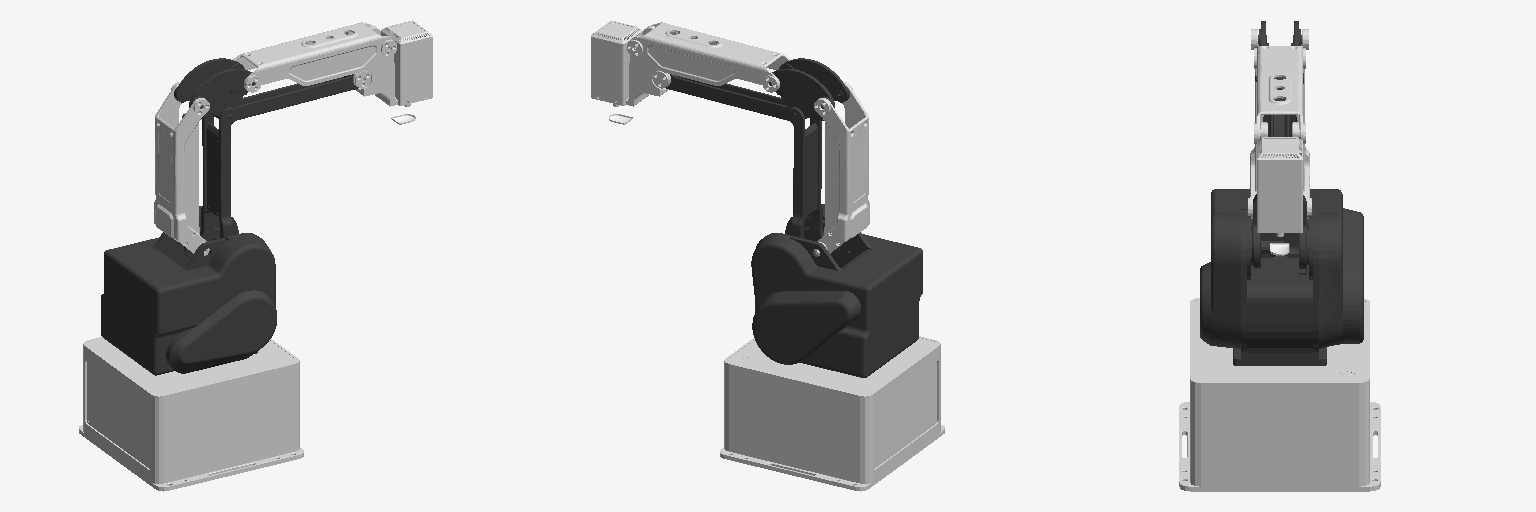
The robot description file, URDF, robot "mg400":
<?xml version="1.0" encoding="utf-8"?>
<!-- This URDF was automatically created by SolidWorks to URDF Exporter! Originally created by [author] ([email redacted]) 
     Commit Version: 1.6.0-1-g15f4949  Build Version: 1.6.7594.29634
     For more information, please see http://wiki.ros.org/sw_urdf_exporter -->
<robot name="mg400">
  <!-- Colors -->
  <material name="DarkGrey">
    <color rgba="0.3 0.3 0.3 1.0"/>
  </material>
  <material name="Grey">
    <color rgba="0.4 0.4 0.4 1.0"/>
  </material>
  <material name="Orange">
    <color rgba="1.0 0.423529411765 0.0392156862745 1.0"/>
  </material>
  <material name="Blue">
    <color rgba="0 0.1 1.0 1.0"/>
  </material>
  <material name="LightGrey">
    <color rgba="0.9 0.9 0.9 1.0"/>
  </material>
  <material name="Red">
    <color rgba="0.9 0 0.2 1.0"/>
  </material>
  <material name="TransparentRed">
    <color rgba="0.9 0 0.2 0.5"/>
  </material>
  <material name="Green">
    <color rgba="0 0.9 0.5 1.0"/>
  </material>
  <material name="Yellow">
    <color rgba="0.7 0.7 0 1.0"/>
  </material>
  <material name="LightBlue">
    <color rgba="0. 0.3 1.0 1.0"/>
  </material>
  <material name="Black">
    <color rgba="0.05 0.05 0.05 1.0"/>
  </material>
  <material name="White">
    <color rgba="1.0 1.0 1.0 1.0" />
  </material>

  
    <link name="base_link">
        <inertial>
            <origin xyz="0.000600637001378879 -2.53487071137343E-07 0.0560927888040551" rpy="0 0 0"/>
            <mass value="3.62164811695094"/>
            <inertia
                    ixx="0.0126582175296405"
                    ixy="6.66832041405407E-08"
                    ixz="-3.52548281362717E-06"
                    iyy="0.0145891535260188"
                    iyz="5.15901657460475E-08"
                    izz="0.0195045116656827"/>
        </inertial>
        <visual>
            <origin xyz="0 0 0" rpy="0 0 0"/>
            <geometry>
                <mesh filename="package://mg400/meshes/base_link.STL"/>
            </geometry>
            <material name="LightGrey"/>

        </visual>
        <collision>
            <origin xyz="0 0 0" rpy="0 0 0"/>
            <geometry>
                <mesh filename="package://mg400/meshes/base_link.STL"/>
            </geometry>
        </collision>
    </link>

    <link name="link1">
        <inertial>
            <origin xyz="-0.0046209286967387 -6.88107982318643E-05 0.0709919358465827" rpy="0 0 0"/>
            <mass value="1.77056222753813"/>
            <inertia
                    ixx="0.00605885293080088"
                    ixy="0.000156081820035162"
                    ixz="-0.00021785654850453"
                    iyy="0.00579381982249127"
                    iyz="6.20876898015621E-05"
                    izz="0.00741058257251941"/>
        </inertial>
        <visual>
            <origin xyz="0 0 0" rpy="0 0 0"/>
            <geometry>
                <mesh filename="package://mg400/meshes/link1.STL"/>
            </geometry>
            <material name="DarkGrey"/>
        </visual>
        <collision>
            <origin xyz="0 0 0" rpy="0 0 0"/>
            <geometry>
                <mesh filename="package://mg400/meshes/link1.STL"/>
            </geometry>
        </collision>
    </link>

    <joint name="j1" type="revolute">
        <origin xyz="-0.00500000000000002 0 0.109" rpy="0 0 0"/>
        <parent link="base_link"/>
        <child link="link1"/>
        <axis xyz="0 0 1"/>
        <limit lower="-3.14" upper="3.14" effort="0" velocity="0"/>
    </joint>

    <link name="link2_1">
        <inertial>
            <origin xyz="-0.00321788524756698 0.0352926570826593 0.0596131328734945" rpy="0 0 0"/>
            <mass value="0.0866115884541459"/>
            <inertia
                    ixx="0.000338551627157209"
                    ixy="-2.78858228577314E-09"
                    ixz="1.05212346076681E-05"
                    iyy="0.000307789653713489"
                    iyz="-1.36109590152488E-06"
                    izz="3.89949940178023E-05"/>
        </inertial>
        <visual>
            <origin xyz="0 0 0" rpy="0 0 0"/>
            <geometry>
                <mesh filename="package://mg400/meshes/link2_1.STL"/>
            </geometry>
            <material name="DarkGrey"/>
        </visual>
        <collision>
            <origin xyz="0 0 0" rpy="0 0 0"/>
            <geometry>
                <mesh filename="package://mg400/meshes/link2_1.STL"/>
            </geometry>
        </collision>
    </link>

    <joint name="j2_1" type="revolute">
        <origin xyz="0.0435007595118091 -0.0357748756218899 0.118995682641123" rpy="0 0 0"/>
        <parent link="link1"/>
        <child link="link2_1"/>
        <axis xyz="0 1 0"/>
        <limit lower="-3.14" upper="3.14" effort="0" velocity="0"/>
    </joint>

    <link name="link3_1">
        <inertial>
            <origin xyz="0.0821679417596488 0.000113044685842874 -0.00333758753063973" rpy="0 0 0"/>
            <mass value="0.0375214831045061"/>
            <inertia
                    ixx="2.54761091812684E-06"
                    ixy="3.73102654491378E-07"
                    ixz="-2.02625705871199E-06"
                    iyy="0.000164234314177935"
                    iyz="-1.44731096825347E-08"
                    izz="0.000164331500854172"/>
        </inertial>
        <visual>
            <origin xyz="0 0 0" rpy="0 0 0"/>
            <geometry>
                <mesh filename="package://mg400/meshes/link3_1.STL"/>
            </geometry>
            <material name="DarkGrey"/>
        </visual>
        <collision>
            <origin xyz="0 0 0" rpy="0 0 0"/>
            <geometry>
                <mesh filename="package://mg400/meshes/link3_1.STL"/>
            </geometry>
        </collision>
    </link>

    <joint name="j3_1" type="revolute">
        <origin xyz="-0.0010512570171516 0.0357748756218898 0.175001164344716" rpy="0 0 0"/>
        <parent link="link2_1"/>
        <child link="link3_1"/>
        <axis xyz="0 1 0"/>
        <limit lower="-3.14" upper="3.14" effort="0" velocity="0"/>
    </joint>

    <link name="link4_1">
        <inertial>
            <origin xyz="0.0387878182928232 0.0170848333998282 -0.0024610990490942" rpy="0 0 0"/>
            <mass value="0.0628979533925801"/>
            <inertia
                    ixx="4.78483605712844E-05"
                    ixy="1.42081909356751E-07"
                    ixz="8.32917079044309E-06"
                    iyy="5.42362047732042E-05"
                    iyz="-2.90608446019989E-08"
                    izz="3.36120409842199E-05"/>
        </inertial>
        <visual>
            <origin xyz="0 0 0" rpy="0 0 0"/>
            <geometry>
                <mesh filename="package://mg400/meshes/link4_1.STL"/>
            </geometry>
            <material name="LightGrey"/>
        </visual>
        <collision>
            <origin xyz="0 0 0" rpy="0 0 0"/>
            <geometry>
                <mesh filename="package://mg400/meshes/link4_1.STL"/>
            </geometry>
        </collision>
    </link>

    <joint name="j4_1" type="revolute">
        <origin xyz="0.174969784055705 -0.0170000000000335 0.00325187137614585" rpy="0 0 0"/>
        <parent link="link3_1"/>
        <child link="link4_1"/>
        <axis xyz="0 1 0"/>
        <limit lower="-3.14" upper="3.14" effort="0" velocity="0"/>
    </joint>

    <link name="link5">
        <inertial>
            <origin xyz="4.24246458685662E-07 3.08507851181768E-14 -0.0349688816440933" rpy="0 0 0"/>
            <mass value="0.0965276919819365"/>
            <inertia
                    ixx="4.98589992160928E-05"
                    ixy="-1.534865545378E-12"
                    ixz="3.46424449605658E-10"
                    iyy="4.98589881725446E-05"
                    iyz="-5.64890953414983E-17"
                    izz="2.130463008359E-05"/>
        </inertial>
        <visual>
            <origin xyz="0 0 0" rpy="0 0 0"/>
            <geometry>
                <mesh filename="package://mg400/meshes/link5.STL"/>
            </geometry>
            <material name="LightGrey"/>
        </visual>
        <collision>
            <origin xyz="0 0 0" rpy="0 0 0"/>
            <geometry>
                <mesh filename="package://mg400/meshes/link5.STL"/>
            </geometry>
        </collision>
    </link>

    <joint name="j5" type="revolute">
        <origin xyz="0.0659996239003897 0.0170000000000371 0.031000800715573" rpy="0 0 0"/>
        <parent link="link4_1"/>
        <child link="link5"/>
        <axis xyz="-1.19408295462994E-05 0 0.999999999928708"/>
        <limit lower="-3.14" upper="3.14" effort="0" velocity="0"/>
    </joint>

    <link name="link2_2">
        <inertial>
            <origin xyz="-0.0201111131723385 0.0304999635268521 0.073632809340276" rpy="0 0 0"/>
            <mass value="0.0662546292985346"/>
            <inertia
                    ixx="0.000218973873589181"
                    ixy="3.0147933007673E-10"
                    ixz="2.51402553227571E-06"
                    iyy="0.000200510070261609"
                    iyz="-1.41837669904595E-09"
                    izz="3.74316777806776E-05"/>
        </inertial>
        <visual>
            <origin xyz="0 0 0" rpy="0 0 0"/>
            <geometry>
                <mesh filename="package://mg400/meshes/link2_2.STL"/>
            </geometry>
            <material name="LightGrey"/>
        </visual>
        <collision>
            <origin xyz="0 0 0" rpy="0 0 0"/>
            <geometry>
                <mesh filename="package://mg400/meshes/link2_2.STL"/>
            </geometry>
        </collision>
    </link>

    <joint name="j2_2" type="revolute">
        <origin xyz="0.00452885682964267 -0.0305 0.141500000000001" rpy="0 0 0"/>
        <parent link="link1"/>
        <child link="link2_2"/>
        <axis xyz="0 1 0"/>
        <limit lower="-3.14" upper="3.14" effort="0" velocity="0"/>
    </joint>

    <link name="link3_2">
        <inertial>
            <origin xyz="0.0338566736074436 0.0240208873857428 0.00452229895926692" rpy="0 0 0"/>
            <mass value="0.0366692789294813"/>
            <inertia
                    ixx="7.24011830695354E-06"
                    ixy="7.93542746250724E-10"
                    ixz="-1.69163254472566E-06"
                    iyy="2.34967008246727E-05"
                    iyz="4.55507111386579E-10"
                    izz="1.66831643179488E-05"/>
        </inertial>
        <visual>
            <origin xyz="0 0 0" rpy="0 0 0"/>
            <geometry>
                <mesh filename="package://mg400/meshes/link3_2.STL"/>
            </geometry>
            <material name="DarkGrey"/>
        </visual>
        <collision>
            <origin xyz="0 0 0" rpy="0 0 0"/>
            <geometry>
                <mesh filename="package://mg400/meshes/link3_2.STL"/>
            </geometry>
        </collision>
    </link>

    <joint name="j3_2" type="revolute">
        <origin xyz="-0.00105049750546494 0.00649999999999986 0.174996846985851" rpy="0 0 0"/>
        <parent link="link2_2"/>
        <child link="link3_2"/>
        <axis xyz="0 1 0"/>
        <limit lower="-3.14" upper="3.14" effort="0" velocity="0"/>
    </joint>

    <link name="link4_2">
        <inertial>
            <origin xyz="0.0876391591012518 0.023499867452275 0.00831492252441945" rpy="0 0 0"/>
            <mass value="0.0453569016333092"/>
            <inertia
                    ixx="2.00037596001325E-05"
                    ixy="3.34474706250153E-09"
                    ixz="2.17594982354756E-07"
                    iyy="0.000132049841023893"
                    iyz="5.36978669669685E-10"
                    izz="0.000141813978894428"/>
        </inertial>
        <visual>
            <origin xyz="0 0 0" rpy="0 0 0"/>
            <geometry>
                <mesh filename="package://mg400/meshes/link4_2.STL"/>
            </geometry>
            <material name="LightGrey"/>
        </visual>
        <collision>
            <origin xyz="0 0 0" rpy="0 0 0"/>
            <geometry>
                <mesh filename="package://mg400/meshes/link4_2.STL"/>
            </geometry>
        </collision>
    </link>

    <joint name="j4_2" type="revolute">
        <origin xyz="0.0678965856063864 0.000500000000000073 0.0119719999403219" rpy="0 0 0"/>
        <parent link="link3_2"/>
        <child link="link4_2"/>
        <axis xyz="0 1 0"/>
        <limit lower="-3.14" upper="3.14" effort="0" velocity="0"/>
    </joint>

  <!--dummy joint-->
  <joint name="ee_joint" type="fixed">
    <parent link="link5"/>
    <child link="ee_link"/>
    <origin xyz="0 0 -0.065" rpy="0 0 0"/>
  </joint>

  <link name="ee_link">
    <visual>
      <origin rpy="0 0 0" xyz="0 0 0"/>
      <geometry>
        <sphere radius="0.005"/>
      </geometry>
        <material name="Red"/>
    </visual>
    <collision>
      <geometry>
        <sphere radius="0.001"/>
      </geometry>
      <origin rpy="0 0 0" xyz="0.0 0 0"/>
    </collision>
    <inertial>
      <mass value="0.0"/>
      <origin rpy="-3.14 0.0 1.57" xyz="0.0 0.0 0.0"/>
      <inertia ixx="0.001" ixy="0.0" ixz="0.0" iyy="0.001" iyz="0.0" izz="0.001"/>
    </inertial>
  </link>
      <!-- TacTip -->
  <link
    name="digit_body_link">
    <inertial>
      <origin
        xyz="0.00443338071044421 -0.0140914049333968 4.96453152977634E-09+0.02"
        rpy="0 0 0" />
      <mass
        value="0.0077837104153161" />
      <inertia
        ixx="7.77176839696665E-07"
        ixy="-5.52554519832781E-09"
        ixz="-2.21347841658254E-13"
        iyy="1.5788930001559E-06"
        iyz="-8.96409493368731E-14"
        izz="1.05613167218354E-06" />
    </inertial>
    <visual>
      <origin
        xyz="0 0 0.035"
        rpy="0 0 0" />
      <geometry>
        <mesh
          filename="../digit/standard_digit/digit_asmb/meshes/digit_body.STL" />
      </geometry>
      <material
        name="digit_body">
        <color
          rgba="0.0 0.0 0.0 1" />
      </material>
    </visual>
    <collision>
      <origin
        xyz="0 0 0.035"
        rpy="0 0 0" />
      <geometry>
        <mesh
          filename="../digit/standard_digit/digit_asmb/meshes/digit_body.STL" />
      </geometry>
    </collision>
  </link>


      <joint name="digit_ee_joint" type="fixed">
        <parent link="ee_link"/>
        <child link="digit_body_link"/>
        <origin rpy="-3.14 0.0 3.14" xyz="0.0 0.0 0.0"/>
      </joint>


  <link
    name="digit_tip_link">
    <inertial>
      <origin
        xyz="-2.15568578500849E-07 0.00554133274527847 -0.00576051345741577-0.035"
        rpy="0 0 0" />
      <mass
        value="0.00130411151086353" />
      <inertia
        ixx="5.48284140746448E-08"
        ixy="-4.02703926962539E-12"
        ixz="-5.29135712007007E-14"
        iyy="3.03790231207661E-08"
        iyz="-1.56642204167579E-10"
        izz="8.26200689636922E-08" />
    </inertial>
    <visual>
      <origin
        xyz="0 0 -0.035"
        rpy="0 0 0" />
      <geometry>
        <mesh
          filename="../digit/standard_digit/digit_asmb_hollow/meshes/digit_core.STL" scale="1.0 1.0 1.0"/>
      </geometry>
      <material
        name="digit_skin">
        <color
          rgba="1.0 1.0 1.0 1" />
      </material>
    </visual>
    <collision>
      <origin
        xyz="0 0 -0.035"
        rpy="0 0 0" />
      <geometry>
        <mesh
          filename="../digit/standard_digit/digit_asmb/meshes/digit_core.STL" />
      </geometry>
    </collision>
  </link>

  <joint
    name="digit_tip_to_body"
    type="fixed">
    <origin
      xyz="-0.00151521951809463 -1.36251105150219E-05 -0.00415"
      rpy="-3.14159265358979 0 1.5707963267949" />
    <parent
      link="digit_body_link" />
    <child
      link="digit_tip_link" />
    <axis
      xyz="0 0 0" />
  </joint>
      <!-- TCP -->
      <link name="tcp_link">
        <visual>
          <origin rpy="0 0 0" xyz="0 0 0"/>
          <geometry>
            <sphere radius="0.001"/>
          </geometry>
           <material name="TransparentRed"/>
        </visual>
        <inertial>
          <mass value="0.0"/>
          <origin rpy="0.0 0.0 1.57" xyz="0.0 0.0 0.0"/>
          <inertia ixx="1.0" ixy="0.0" ixz="0.0" iyy="1.0" iyz="0.0" izz="1.0"/>
        </inertial>
      </link>

      <joint name="tcp_joint" type="fixed">
        <parent link="digit_body_link"/>
        <child link="tcp_link"/>
        <origin rpy="0 0 0" xyz="0.0007 0.0 0.040"/>
        <!-- <origin rpy="0 0 0" xyz="0.00145 0.0 0.025"/> -->
        <!-- <origin rpy="0 0 0" xyz="0.0018 0.0 0.025"/> -->
      </joint>


<!-- 
  <link
    name="sq_link">
    <inertial>
      <origin
        xyz="-0.00535000000000003 0.00799999999999999 5.00000000005617E-06-0.035"
        rpy="0 0 0" />
      <mass
        value="1.59999999999993E-07" />
      <inertia
        ixx="5.33346666666645E-14"
        ixy="-1.34013559776601E-30"
        ixz="4.41903370583012E-33"
        iyy="5.33346666666645E-14"
        iyz="-3.65677197028787E-28"
        izz="1.06666666666662E-13" />
    </inertial>
    <visual>
      <origin
        xyz="0 0 -0.035"
        rpy="0 0 0" />
      <geometry>
        <mesh
          filename="../digit/standard_digit/digit_asmb_skin_with_marks/meshes/sq_link.STL" />
      </geometry>
      <material
        name="Green">
        <color
          rgba="0.9 0.9 0.9 1" />
      </material>
    </visual>
    <collision>
      <origin
        xyz="0 0 -0.035"
        rpy="0 0 0" />
      <geometry>
        <mesh
          filename="../digit/standard_digit/digit_asmb_skin_with_marks/meshes/sq_link.STL" />
      </geometry>
    </collision>
  </link>


  <joint
    name="skin_sq_joint"
    type="fixed">
    <origin
      xyz="-0.00535000000000005 0.0132650762017464 -0.00645000000000009"
      rpy="0 0 3.14159265358979" />
    <parent
      link="digit_tip_link" />
    <child
      link="sq_link" />
    <axis
      xyz="0 0 0" />
  </joint>
 -->


</robot>

--- Render facts (derived) ---
The picture shows the robot from 3 angles, left to right: view 1: azimuth 30°, elevation 25°; view 2: azimuth 150°, elevation 25°; view 3: azimuth 270°, elevation 25°; orthographic projection.
Robot: mg400 — 13 links, 12 joints (8 revolute, 4 fixed); root link base_link; default pose: every joint at zero.
Links seen in each view (by area): view 1: base_link, link1, link2_2, link4_2, link4_1, link2_1, link3_2, link3_1; view 2: base_link, link1, link2_2, link4_2, link4_1, link2_1, link3_2, link3_1; view 3: base_link, link1, link4_1, link4_2, link2_1, link2_2.
Boxes of the visible links, x1,y1,x2,y2 form: base_link: (79,337,303,491); link1: (101,206,276,375); link2_2: (154,82,209,255); link4_2: (233,22,396,92); link4_1: (353,20,432,106); link2_1: (200,107,236,241); link3_2: (174,58,254,118); link3_1: (182,74,357,120); base_link: (720,336,944,491); link1: (751,204,922,377); link2_2: (814,82,869,255); link4_2: (627,22,790,92); link4_1: (591,20,670,106); link2_1: (787,107,823,241); link3_2: (769,58,849,118); link3_1: (666,74,823,120); base_link: (1179,298,1380,491); link1: (1200,189,1363,365); link4_1: (1257,122,1302,232); link4_2: (1254,46,1305,143); link2_1: (1251,73,1308,274); link2_2: (1248,29,1311,218).
Size in the robot's own frame: 0.3954 by 0.19 by 0.4597 metres.
10 mesh visuals loaded from 11 distinct referenced files (10 binary STL); not drawn: 1 (reference not matched to a file when rendering).